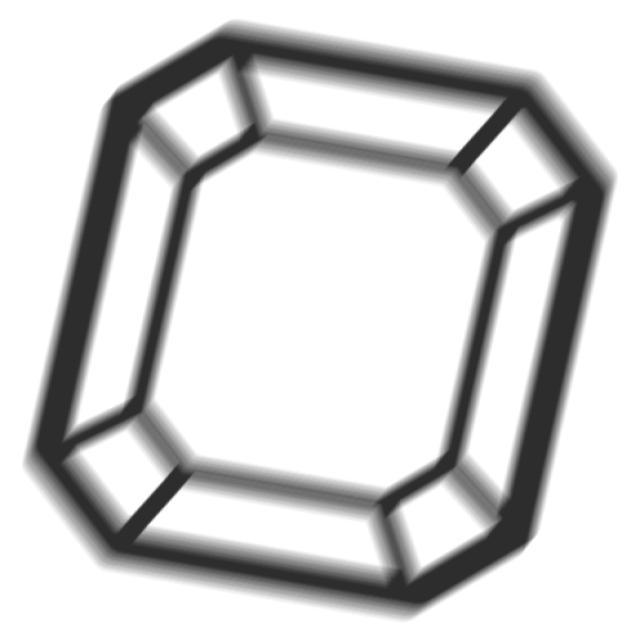emerald: (18, 14, 617, 630)
